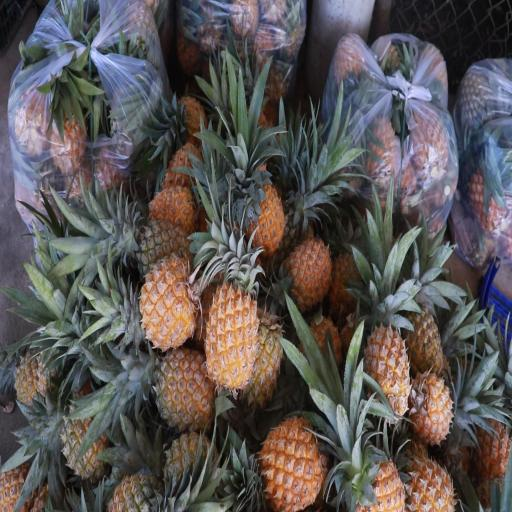------------------------------: (61, 394, 113, 482), (133, 218, 193, 280)
Pineapple - v8 v1: (203, 264, 262, 400), (258, 408, 328, 507), (142, 348, 220, 434), (136, 254, 200, 354), (362, 302, 412, 429), (278, 228, 337, 314), (344, 439, 410, 512), (239, 166, 286, 252), (403, 442, 458, 512), (400, 298, 448, 377), (411, 362, 454, 442), (146, 177, 200, 240), (108, 468, 170, 512), (2, 447, 36, 512)
